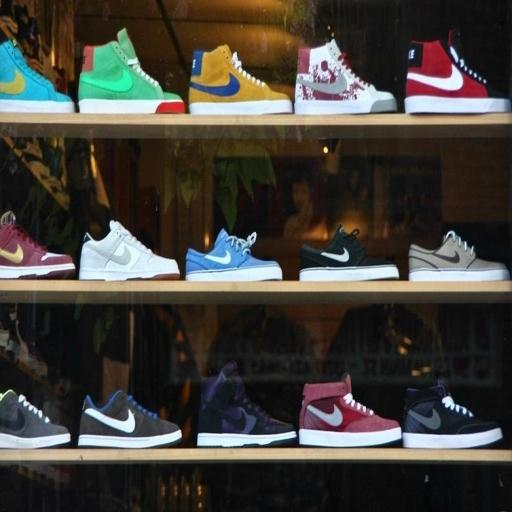shoe: (78, 28, 184, 114), (404, 29, 510, 114), (197, 362, 297, 447), (294, 39, 396, 115), (298, 374, 402, 447), (188, 45, 292, 115), (403, 383, 502, 449), (78, 220, 180, 281), (78, 390, 182, 448), (0, 40, 75, 114), (299, 226, 399, 281), (409, 230, 510, 282), (0, 210, 75, 279), (185, 228, 282, 281), (0, 389, 71, 449)
